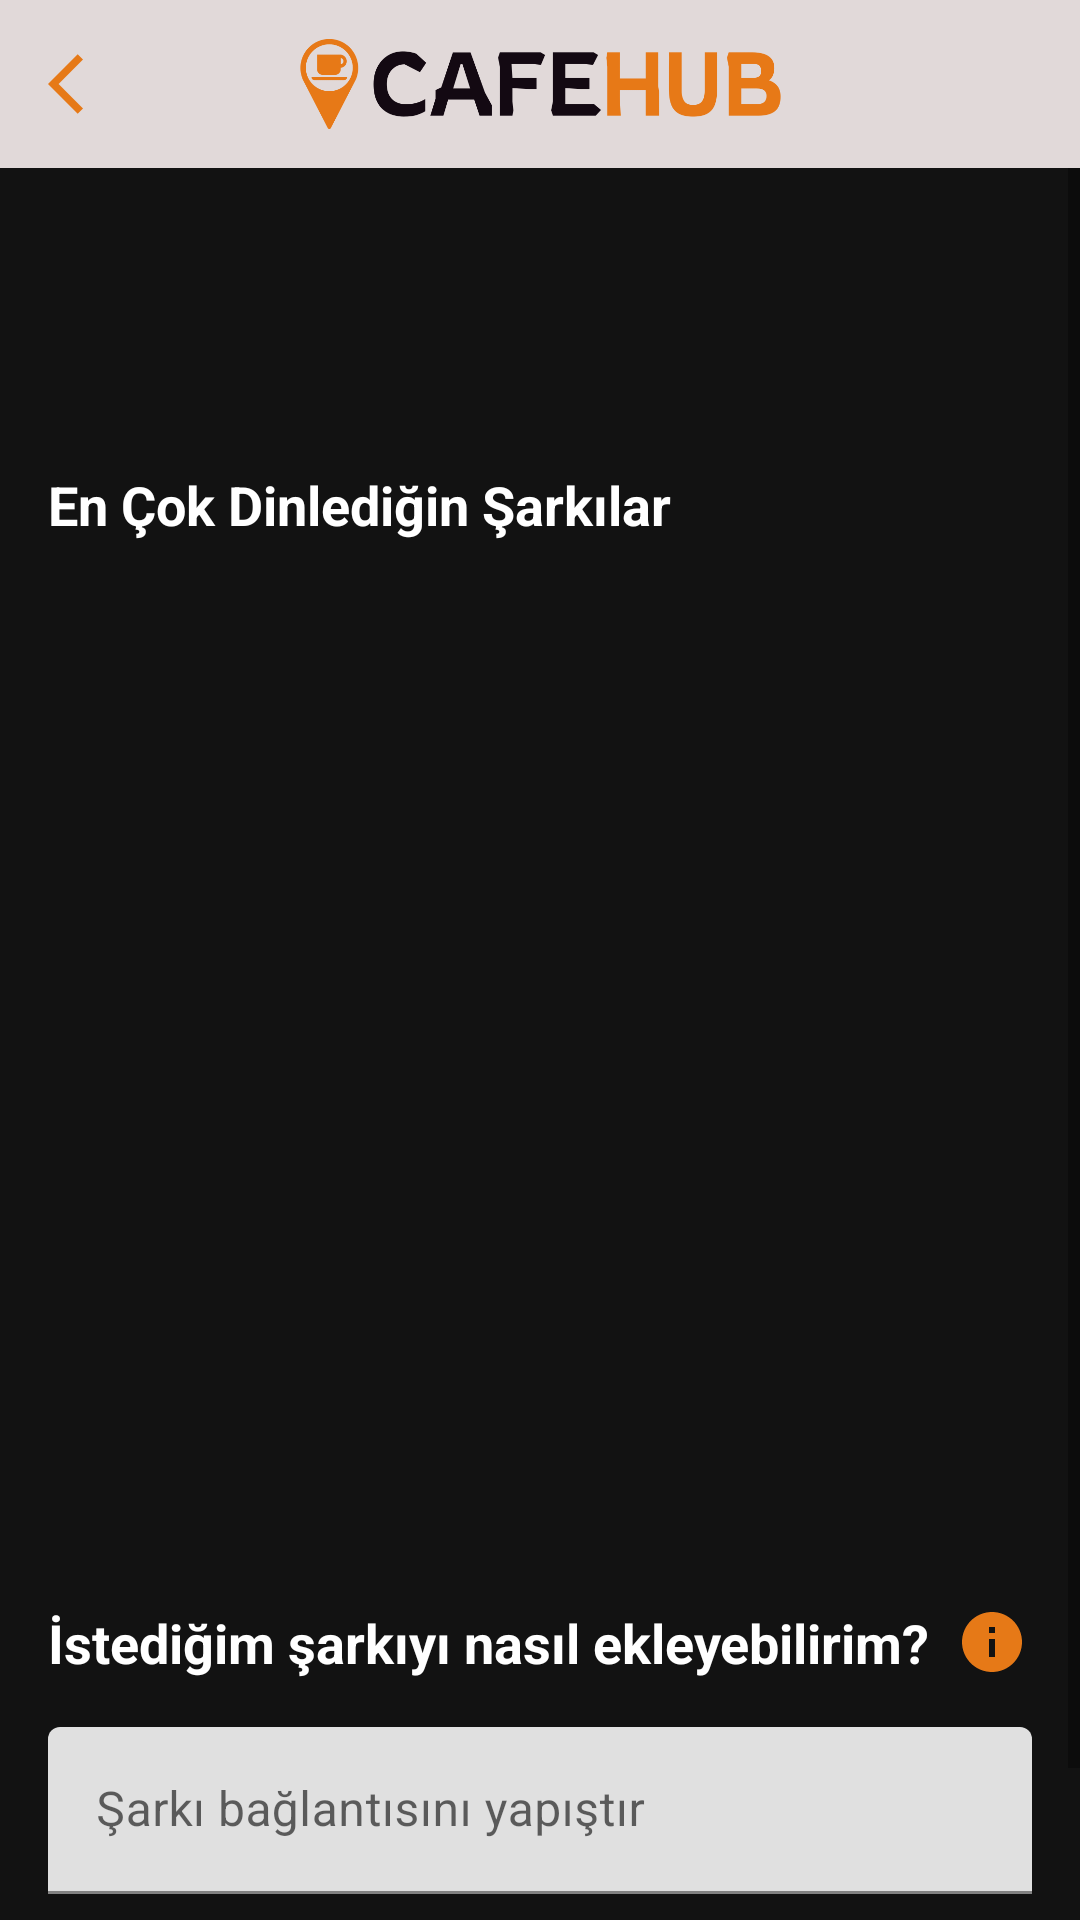

Icon bounding boxes for this 1080w x 1920h phone screenshot, format (x1, y1, x2, y2):
about: (962, 1612, 1022, 1672)
